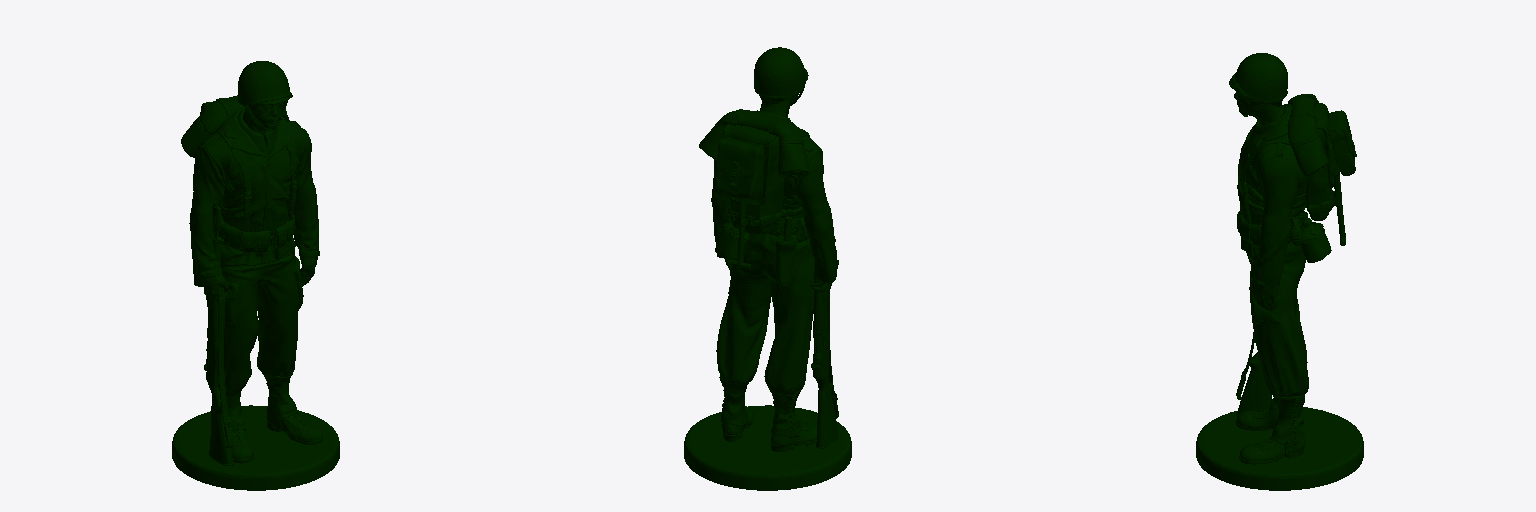
The model's file is army_man_standing_scaled.obj.
3 views of the same model, side by side, from view 1: azimuth 30°, elevation 25°; view 2: azimuth 150°, elevation 25°; view 3: azimuth 270°, elevation 25° (orthographic).
Visible parts, largest first — view 1: American_soldier_ww2_Stand_A1; view 2: American_soldier_ww2_Stand_A1; view 3: American_soldier_ww2_Stand_A1.
Boxes of the visible parts, x1=… form: American_soldier_ww2_Stand_A1: x1=172, y1=61, x2=339, y2=490; American_soldier_ww2_Stand_A1: x1=684, y1=47, x2=851, y2=490; American_soldier_ww2_Stand_A1: x1=1196, y1=53, x2=1363, y2=490.
Bounding box in the file's own units: 0.6852 × 1.8 × 0.6851.